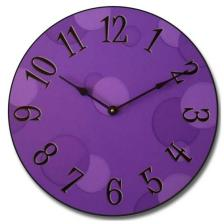purple: (9, 7, 219, 216)
